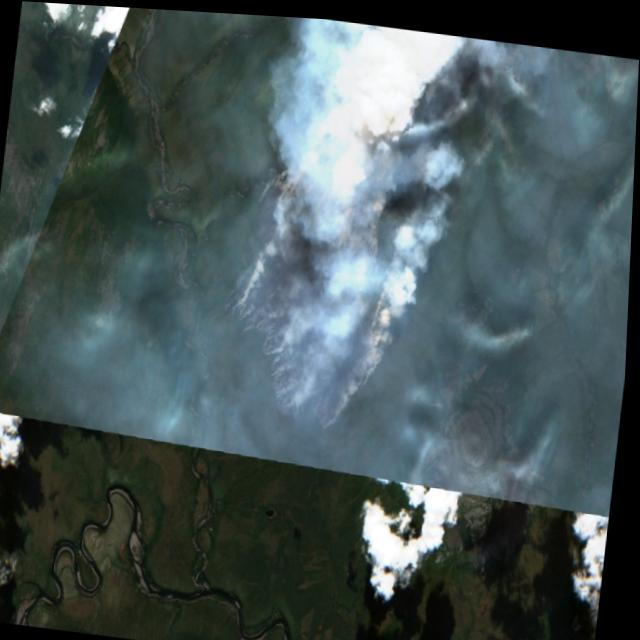fire: (209, 158, 413, 437)
